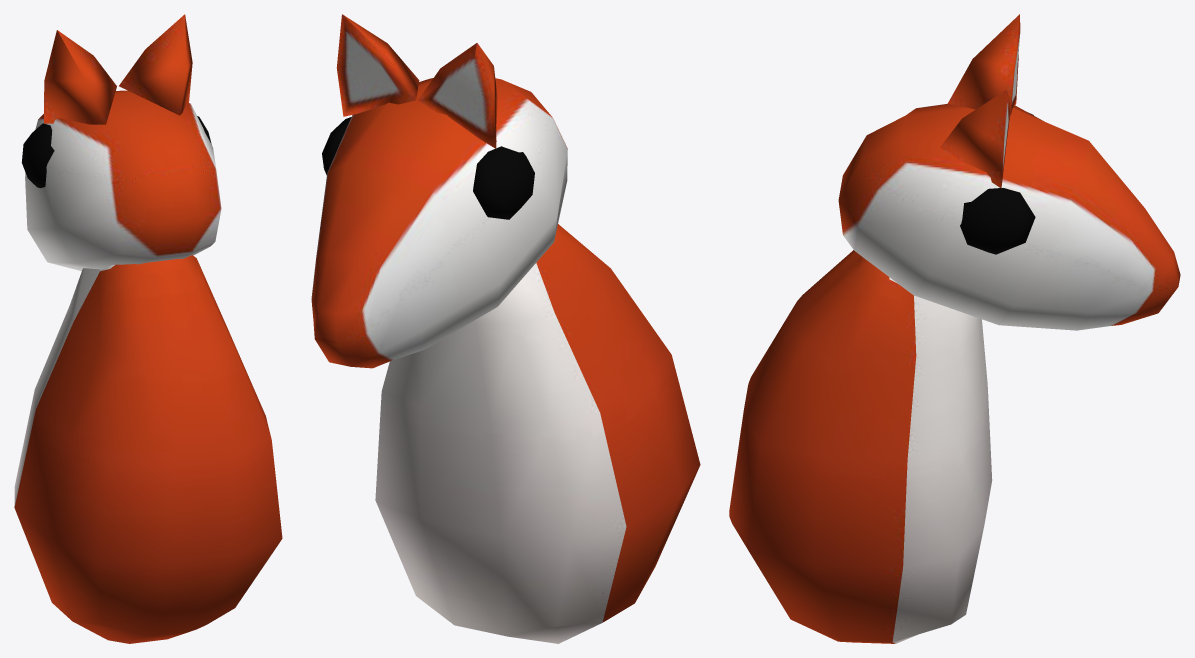
Rendered from baby05.FBX.
3 renders of one model, left to right at view 1: azimuth 30°, elevation 25°; view 2: azimuth 150°, elevation 25°; view 3: azimuth 270°, elevation 25°, orthographic. The views are drawn at different scales.
Parts seen in each view (by area): view 1: baby05; view 2: baby05; view 3: baby05.
Part boxes in pixels (left/top/right/bottom): baby05: left=14, top=14, right=282, bottom=643; baby05: left=311, top=14, right=700, bottom=643; baby05: left=729, top=14, right=1180, bottom=643.
Bounding box in the file's own units: 0.048 × 0.1125 × 0.0758.
